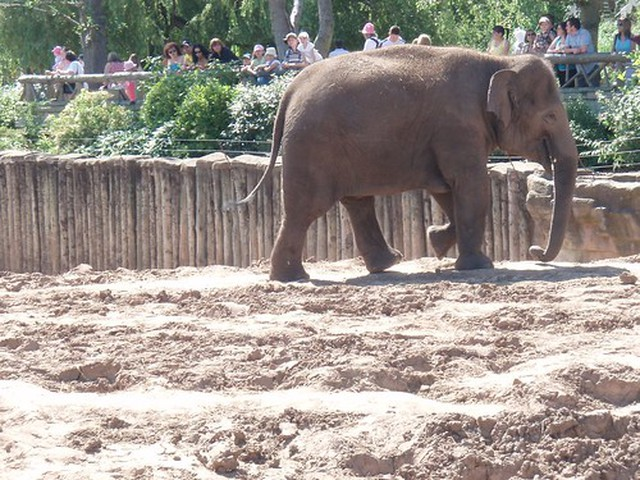Elephant: (266, 40, 575, 278)
Person: (490, 13, 640, 56), (159, 39, 323, 64), (359, 15, 413, 43), (48, 44, 85, 77), (103, 49, 140, 72)
